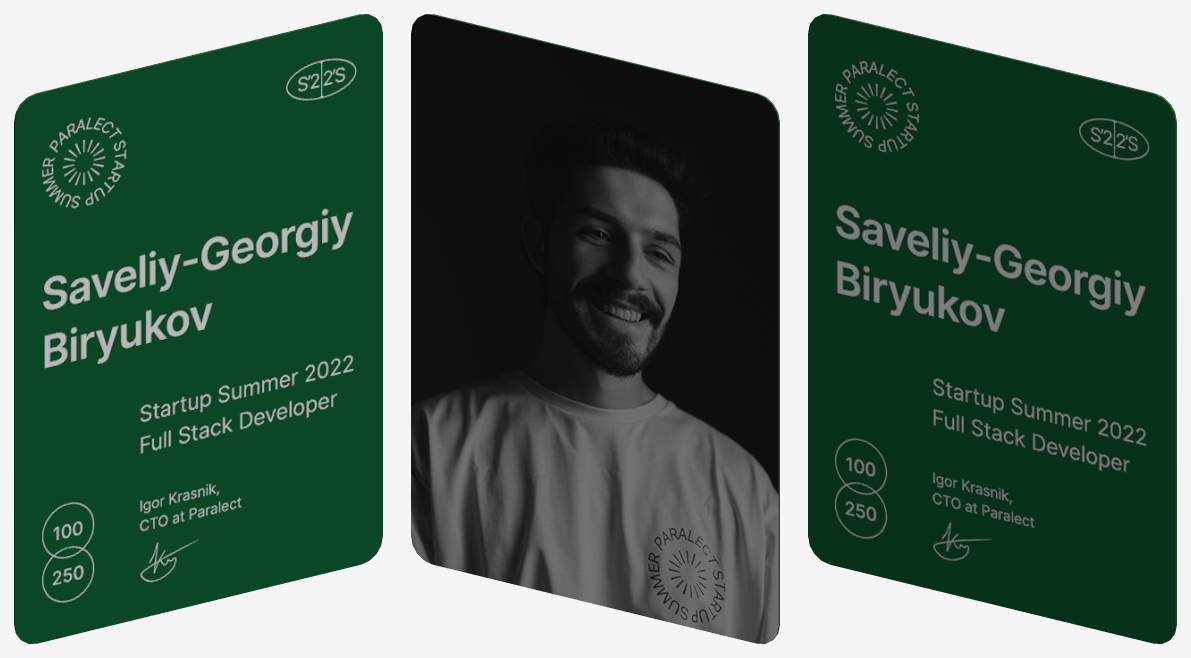
File: card.glb
The picture shows the model from 3 angles, left to right: view 1: azimuth 30°, elevation 25°; view 2: azimuth 150°, elevation 25°; view 3: azimuth 330°, elevation 25°; orthographic projection.
Visible parts, largest first — view 1: Plane; view 2: Plane; view 3: Plane.
Boxes of the visible parts, <box> form: Plane: <box>14,14,382,643</box>; Plane: <box>411,14,779,643</box>; Plane: <box>808,14,1176,643</box>.
Bounding box in the file's own units: 0.07 × 0.1 × 0.000396.
3 materials, 2 textured.
